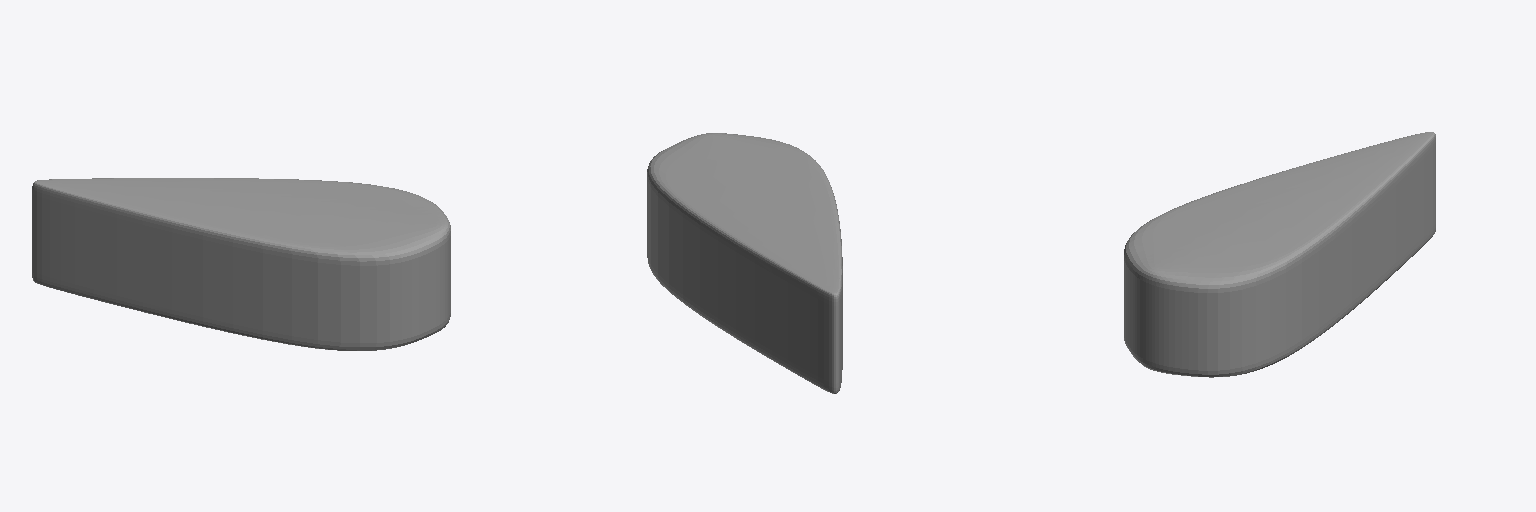
Rendered from paddle.obj.
The picture shows the model from 3 angles: view 1: azimuth 30°, elevation 25°; view 2: azimuth 150°, elevation 25°; view 3: azimuth 270°, elevation 25°; orthographic projection.
Parts seen in each view (by area): view 1: Paddle_Plane; view 2: Paddle_Plane; view 3: Paddle_Plane.
Part boxes in pixels (x1,y1,x2,y2): Paddle_Plane: (32, 178, 450, 350); Paddle_Plane: (647, 133, 842, 393); Paddle_Plane: (1124, 132, 1435, 377).
Size of the model in its own units: 1.48 by 0.5207 by 1.37.